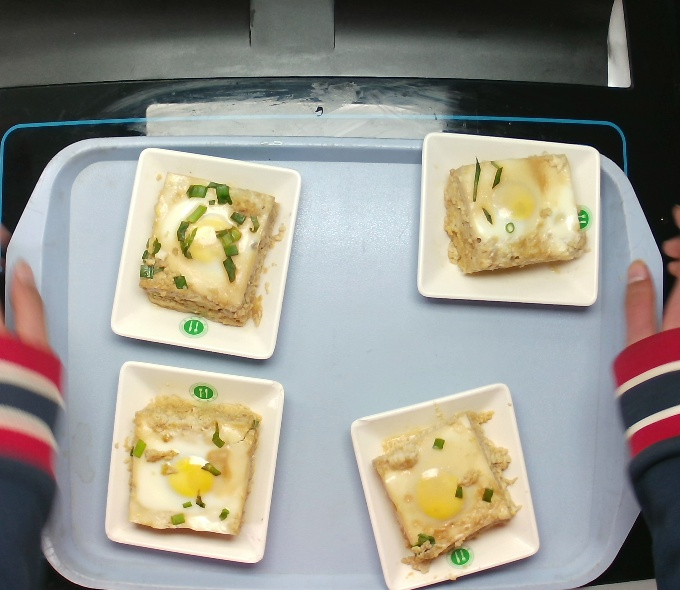wcq-RouMoZhengDan: (126, 169, 286, 332), (370, 404, 524, 571), (117, 380, 269, 548), (439, 150, 583, 285)
